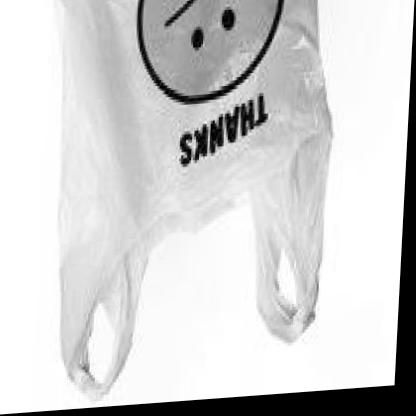trash: (59, 0, 331, 394)
